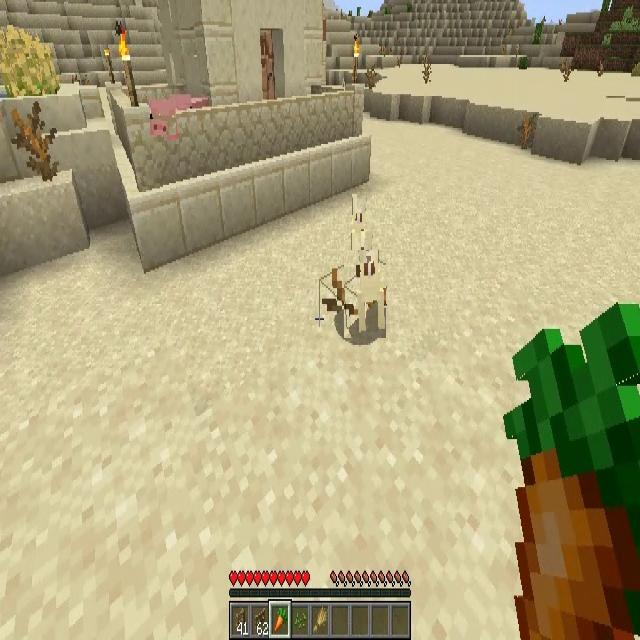pig: (150, 100, 176, 135)
rabbit: (344, 250, 386, 338), (351, 195, 369, 258)
